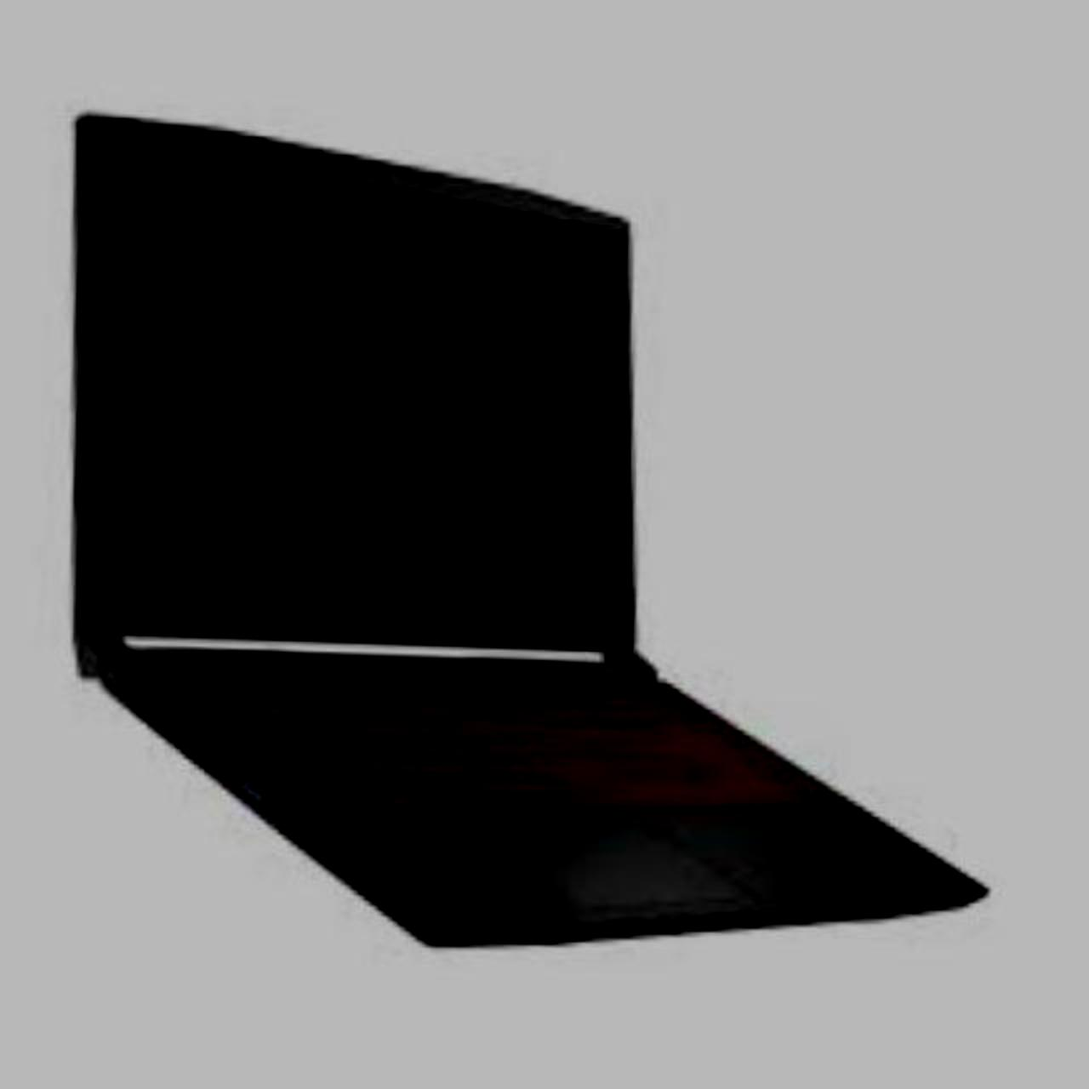laptop: (8, 98, 1034, 971)
